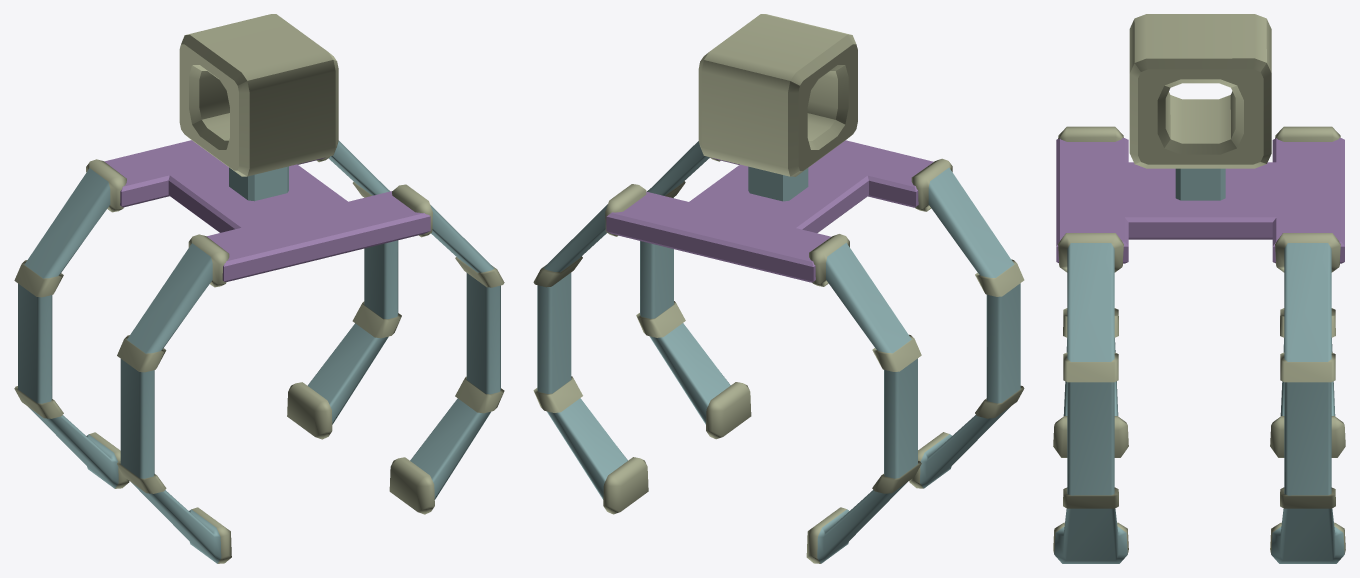
The model's file is Crane.fbx.
3 renders of one model, left to right at view 1: azimuth 30°, elevation 25°; view 2: azimuth 150°, elevation 25°; view 3: azimuth 270°, elevation 25°, orthographic. The views are drawn at different scales.
Parts seen in each view (by area): view 1: pCube4, Arm_02, Arm_01, Arm_03, Arm_04; view 2: pCube4, Arm_01, Arm_02, Arm_04, Arm_03; view 3: pCube4, Arm_03, Arm_04, Arm_02, Arm_01.
Boxes of the visible parts, left/top/right/bottom form: pCube4: left=104, top=14, right=430, bottom=282; Arm_02: left=117, top=234, right=231, bottom=563; Arm_01: left=14, top=159, right=129, bottom=488; Arm_03: left=389, top=184, right=504, bottom=514; Arm_04: left=287, top=140, right=401, bottom=439; pCube4: left=606, top=14, right=933, bottom=282; Arm_01: left=806, top=234, right=921, bottom=563; Arm_02: left=909, top=158, right=1024, bottom=488; Arm_04: left=533, top=184, right=648, bottom=514; Arm_03: left=636, top=141, right=751, bottom=439; pCube4: left=1056, top=14, right=1344, bottom=263; Arm_03: left=1053, top=233, right=1128, bottom=563; Arm_04: left=1270, top=233, right=1345, bottom=563; Arm_02: left=1053, top=126, right=1128, bottom=457; Arm_01: left=1270, top=126, right=1345, bottom=457.
Size of the model in its own units: 251 by 293 by 164.
